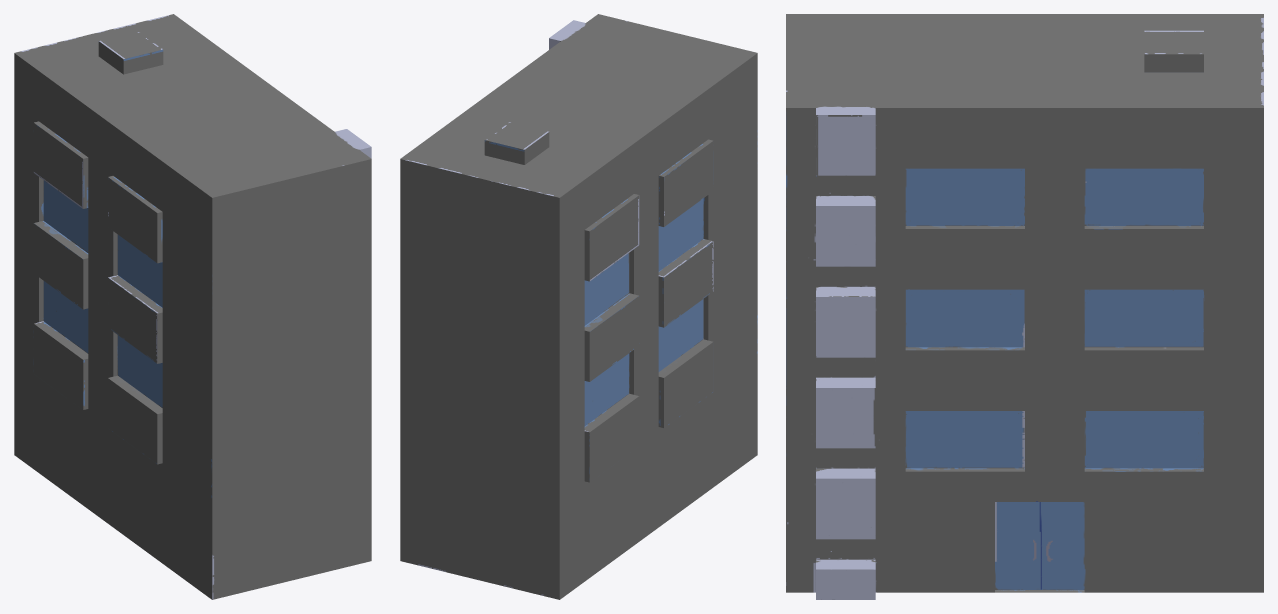
Rendered from office.fbx.
3 views of the same model, side by side, from view 1: azimuth 30°, elevation 25°; view 2: azimuth 150°, elevation 25°; view 3: azimuth 270°, elevation 25° (orthographic). The views are drawn at different scales.
Visible parts, largest first — view 1: Kocka; view 2: Kocka; view 3: Kocka.
Part boxes in pixels (box(x1,y1,x2,y2)): Kocka: box(14, 14, 371, 599); Kocka: box(400, 14, 757, 599); Kocka: box(786, 14, 1263, 599).
Bounding box in the file's own units: 8034 × 18096 × 15564.
Materials: 1 (1 with a texture image).
